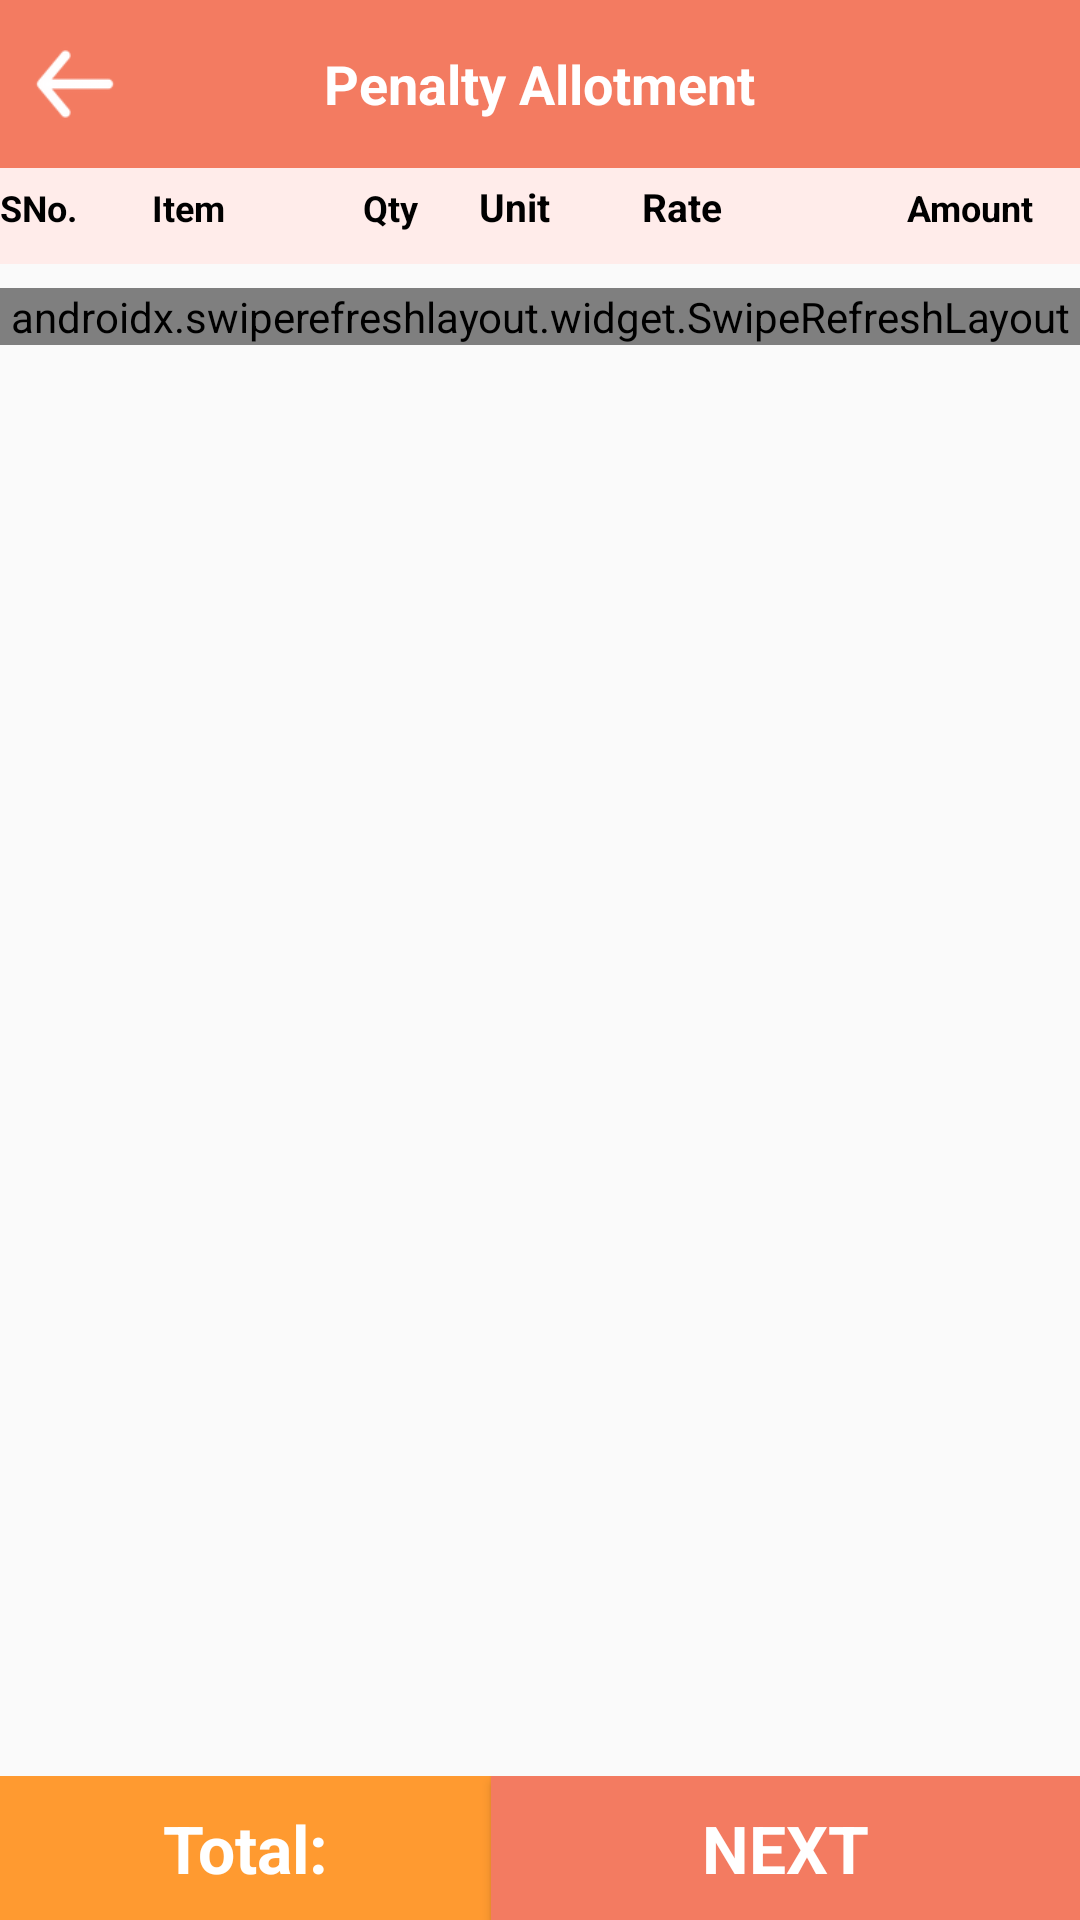

Named icons in this screenshot (1080w x 1920h) and their bounding boxes, (x1, y1, x2, y2):
back: (36, 50, 114, 118)
